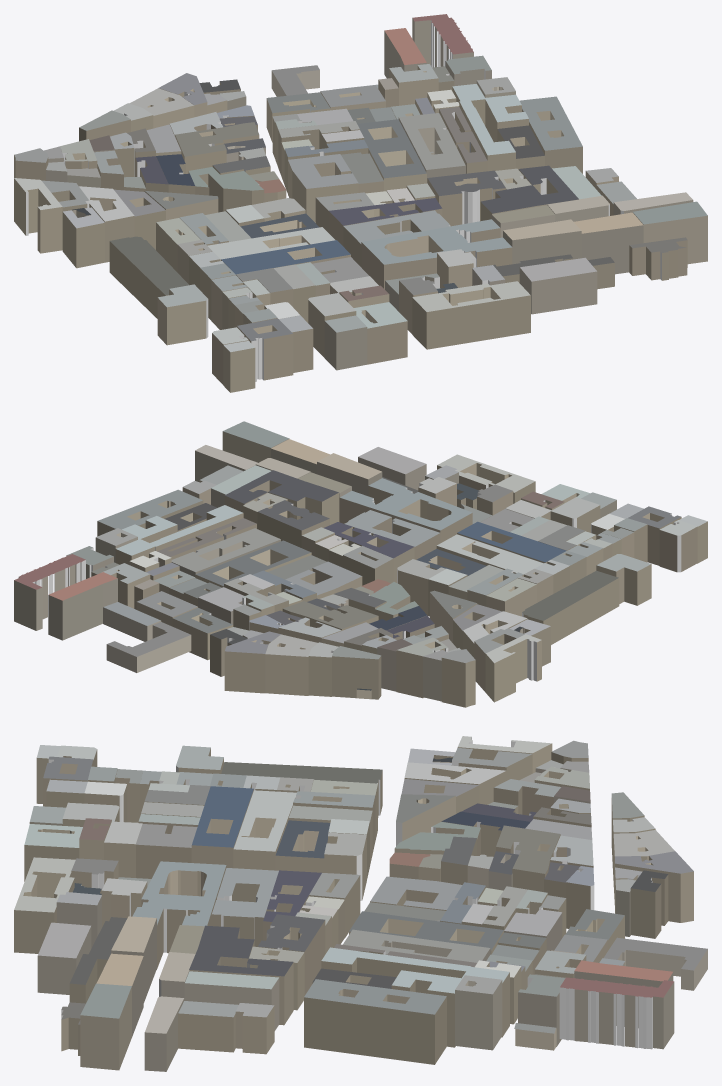
3 views of the same model, one above another, from view 1: azimuth 30°, elevation 25°; view 2: azimuth 150°, elevation 25°; view 3: azimuth 270°, elevation 25° (orthographic). The views are drawn at different scales.
Visible parts, largest first — view 1: tuile; view 2: tuile; view 3: tuile.
Boxes of the visible parts, box(x1,y1,x2,y2) form: tuile: box(14, 14, 707, 392); tuile: box(14, 421, 707, 707); tuile: box(14, 736, 707, 1071).
Size of the model in its own units: 272 by 31.19 by 281.
